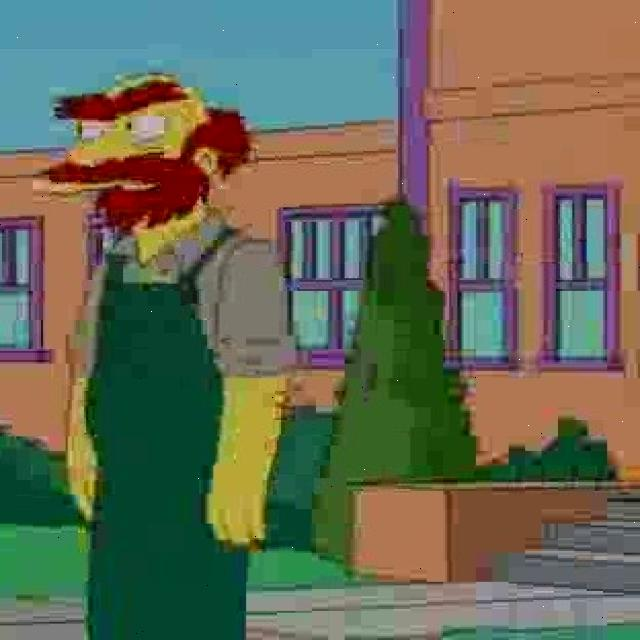Groundskeeper Willie: (30, 68, 256, 245)
